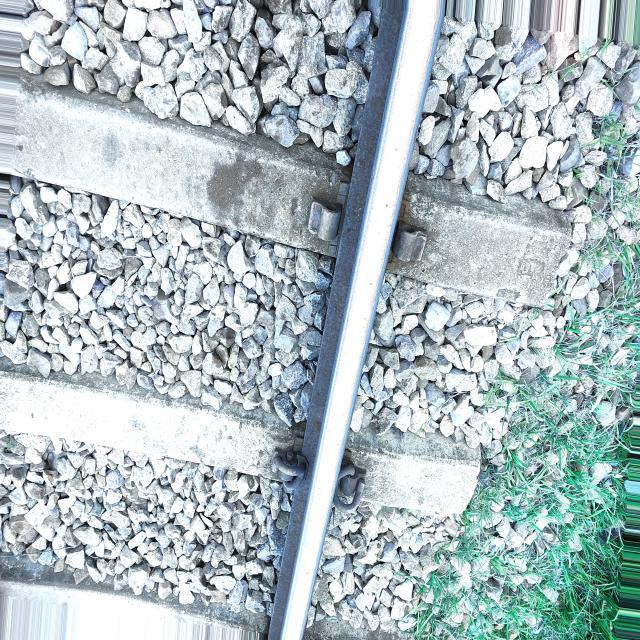Good Fasteners: (333, 464, 365, 514), (272, 451, 307, 482)
Missing Fastener: (255, 142, 347, 256), (391, 175, 460, 283)
